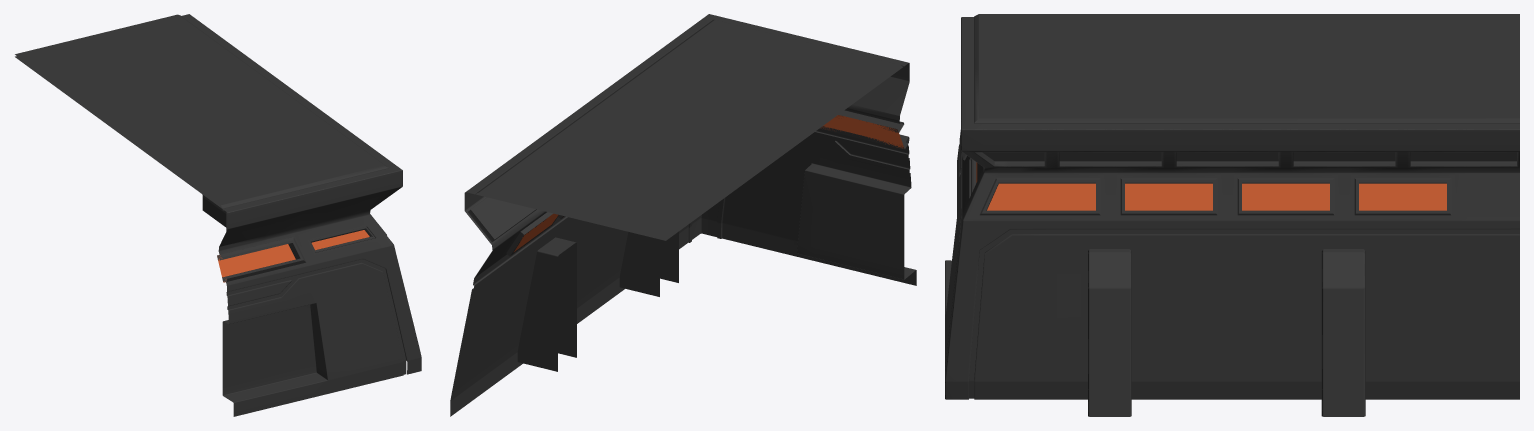
File: SM_Building03_Base_01.FBX
3 views of the same model, side by side, from view 1: azimuth 30°, elevation 25°; view 2: azimuth 150°, elevation 25°; view 3: azimuth 270°, elevation 25° (orthographic). The views are drawn at different scales.
Visible parts, largest first — view 1: SM_Building03_Base_01; view 2: SM_Building03_Base_01; view 3: SM_Building03_Base_01.
Boxes of the visible parts, x1=… form: SM_Building03_Base_01: x1=15, y1=14, x2=421, y2=416; SM_Building03_Base_01: x1=450, y1=14, x2=916, y2=416; SM_Building03_Base_01: x1=945, y1=14, x2=1519, y2=416.
Bounding box in the file's own units: 972 × 1634 × 831.
